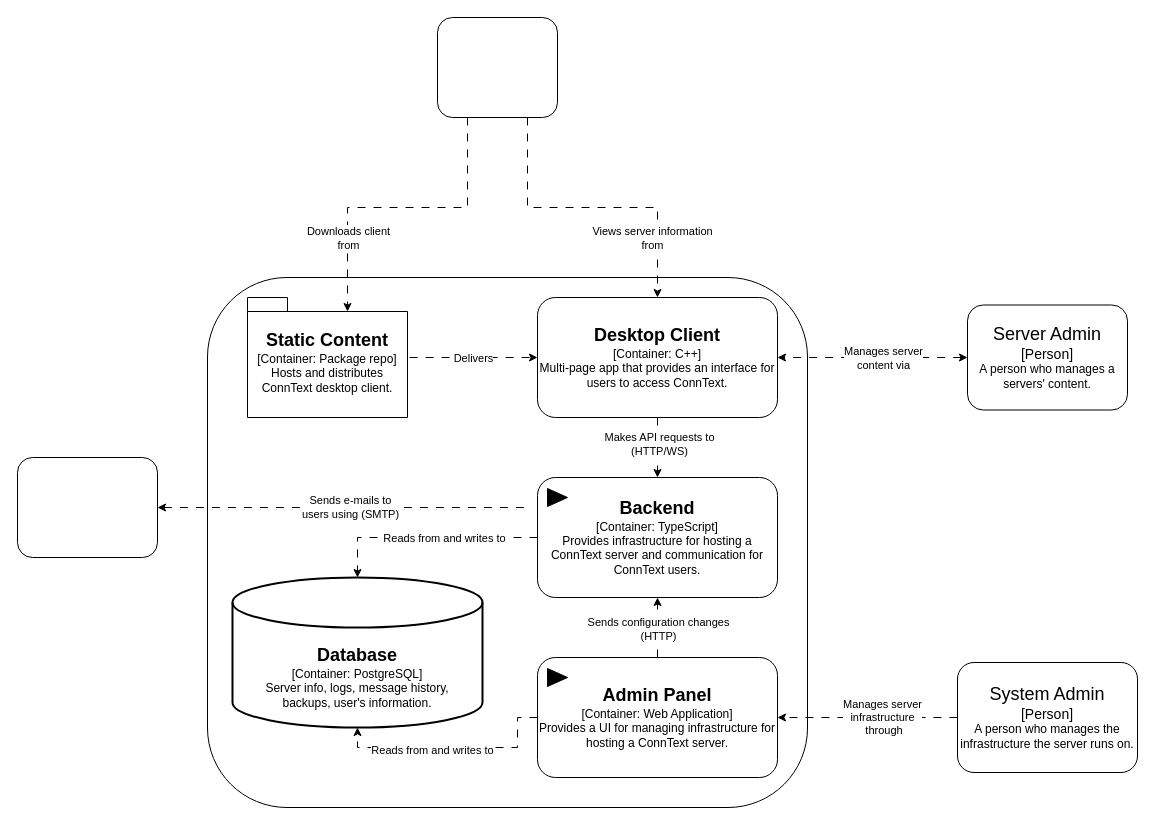
This 1155x825 diagram has some shape labels left out. Each missing label, with the box of its shape:
ConnText [Software System]: (206, 276, 808, 808)
Email Service [External System] Email service provider: (16, 456, 158, 558)
User [Person] A person with a ConnText account.: (436, 16, 558, 118)
